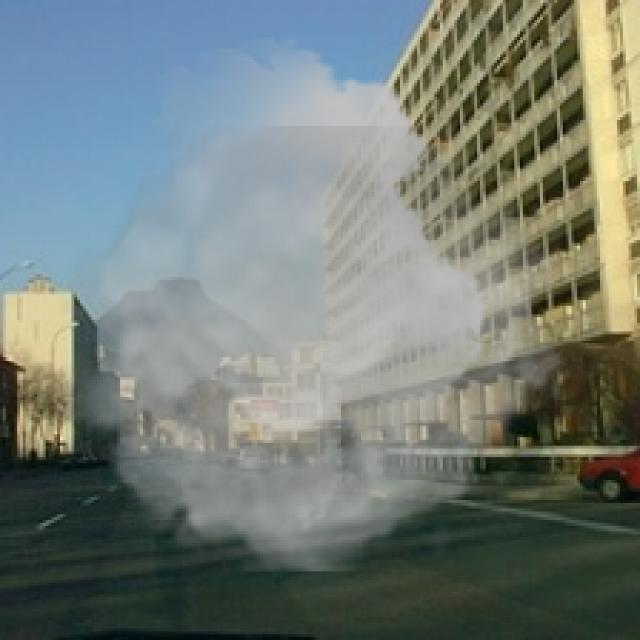Smoke: (51, 37, 583, 572)
